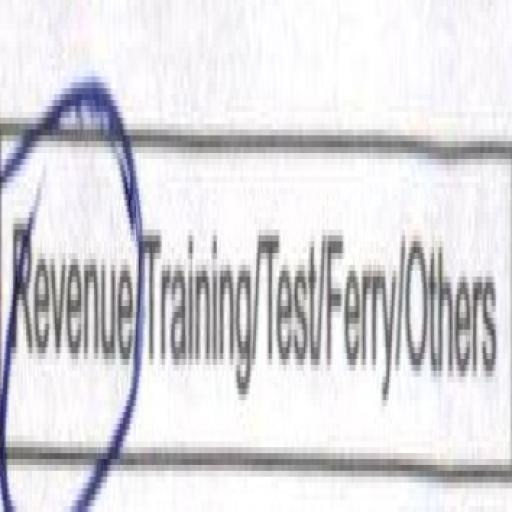check: (0, 40, 148, 508)
